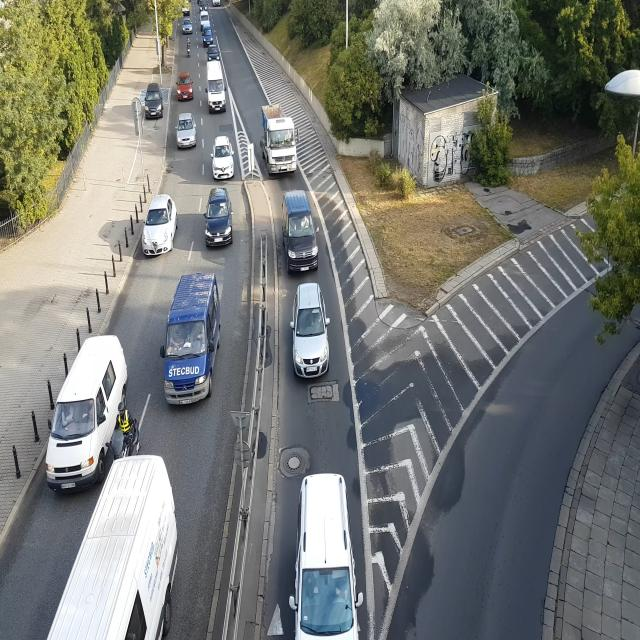car: (49, 506, 169, 640), (292, 467, 359, 640), (39, 327, 102, 476), (162, 262, 222, 415), (290, 284, 333, 378), (278, 190, 321, 274), (142, 188, 176, 262), (204, 186, 236, 254), (204, 58, 229, 117), (169, 108, 200, 155), (212, 137, 235, 181), (143, 81, 164, 120), (176, 70, 195, 100), (202, 24, 214, 46), (207, 42, 220, 61), (199, 10, 211, 27), (182, 17, 193, 35), (181, 2, 190, 17), (198, 0, 208, 12), (212, 0, 222, 8)
motorcycle: (106, 401, 141, 461), (185, 36, 192, 59)
truck: (256, 100, 300, 180)
